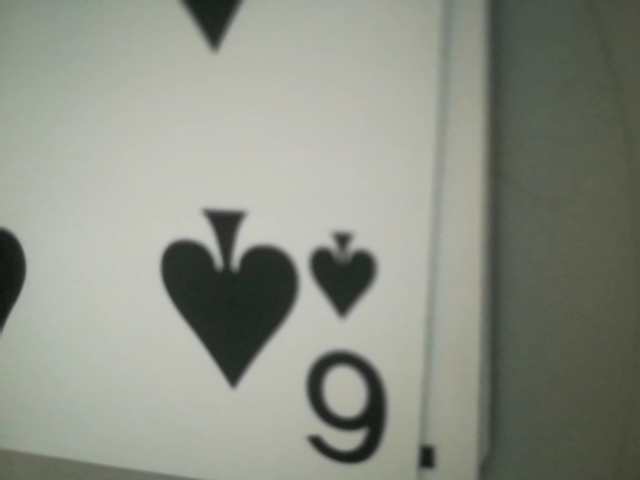ht 6: (286, 218, 399, 480)
